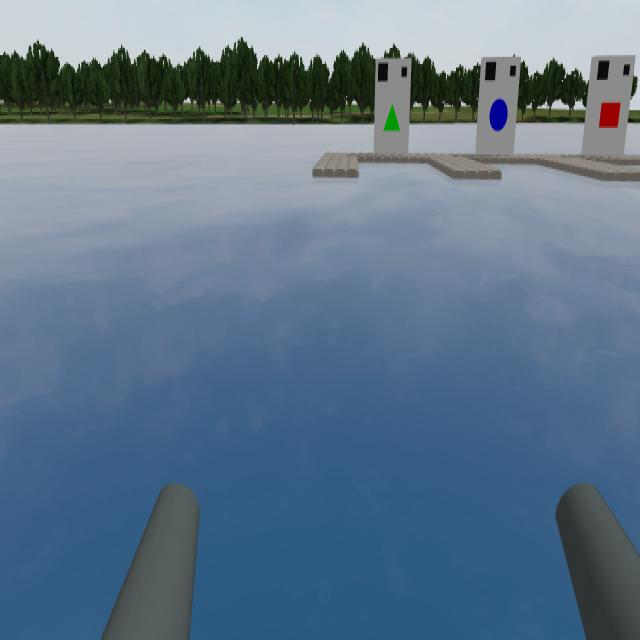dock: (578, 43, 636, 167), (368, 51, 412, 157), (478, 54, 522, 153)
